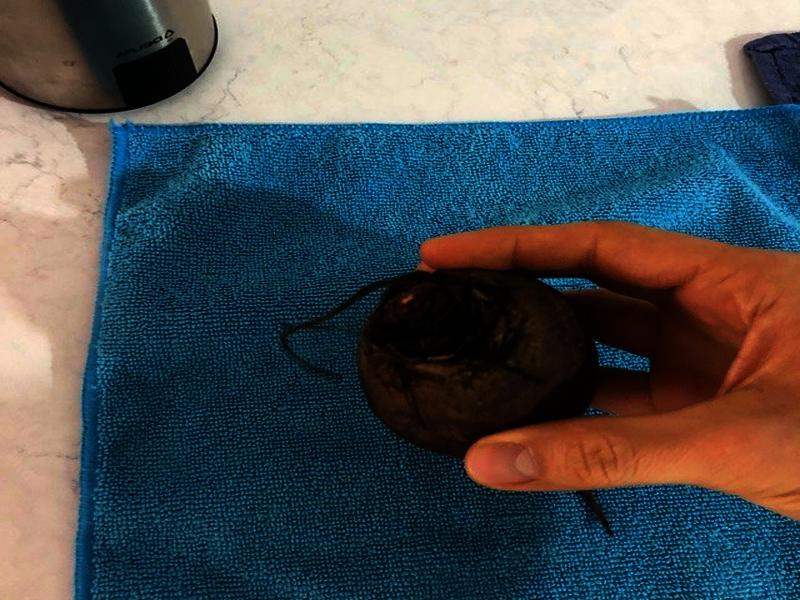Beet: (283, 270, 612, 534)
